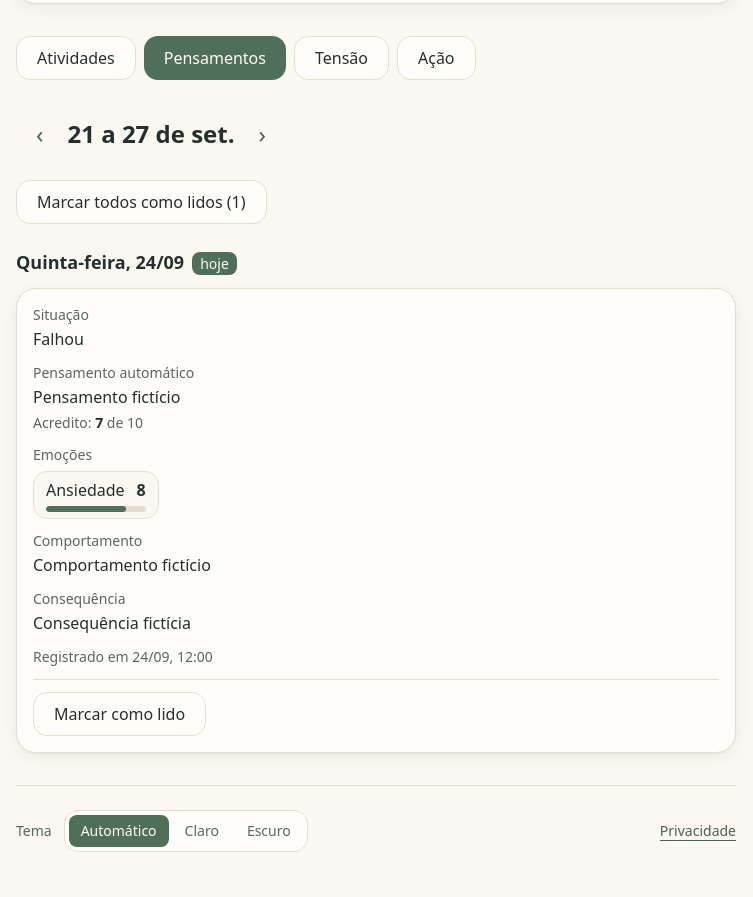
Test: no cartão › se a marca não for gravada, avisa no cartão
The width and height of the screenshot is (753, 897).
(page scrolled)
Click the button with aria-label "Marcar como lido: Falhou" at (120, 714), box [33,692,206,736]
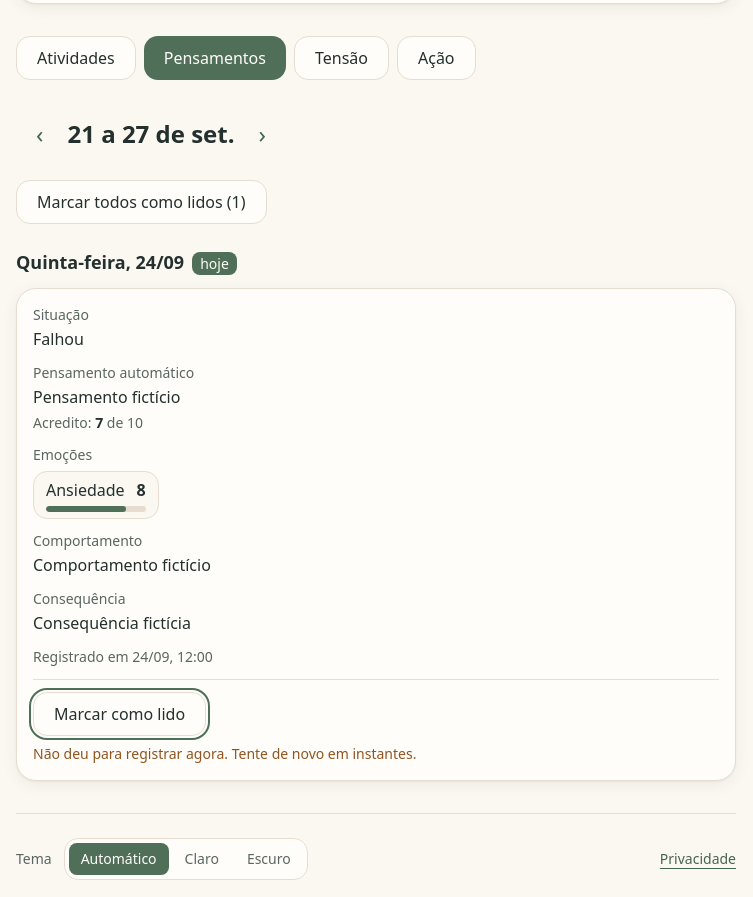
Now the message shows "Não deu para registrar agora", box [33,744,416,763]
